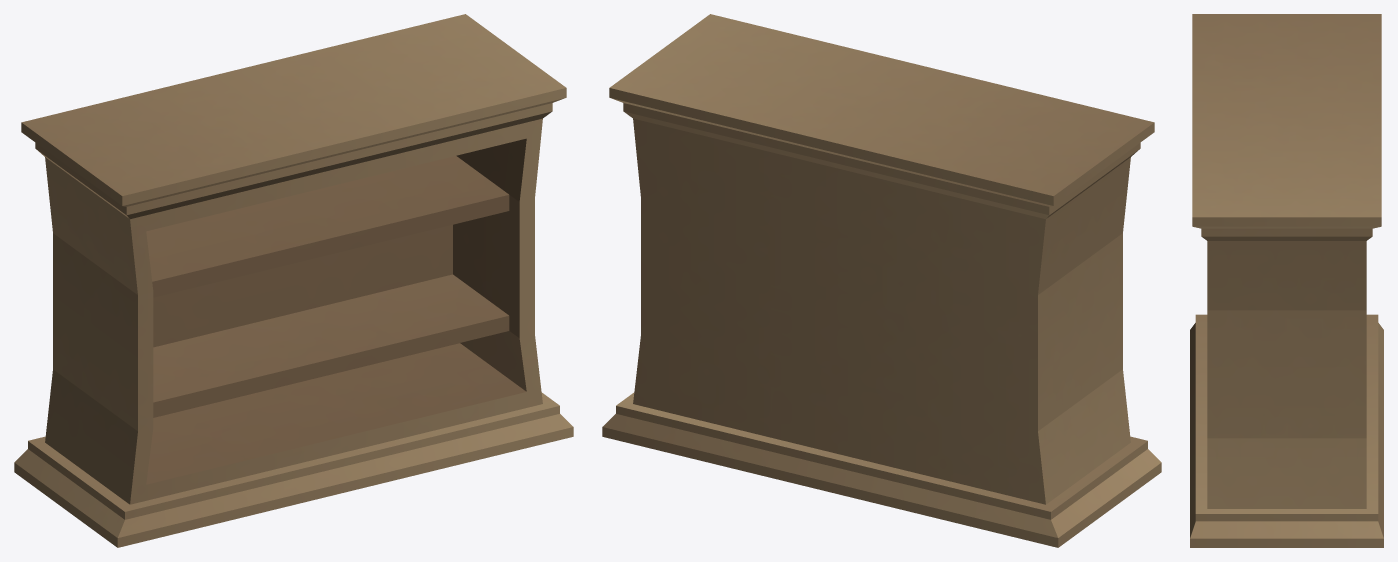
Rendered from small_bookshelf_1.glb.
3 views of the same model, side by side, from view 1: azimuth 30°, elevation 25°; view 2: azimuth 150°, elevation 25°; view 3: azimuth 270°, elevation 25° (orthographic). The views are drawn at different scales.
Visible parts, largest first — view 1: small_bookshelf_1; view 2: small_bookshelf_1; view 3: small_bookshelf_1.
Part boxes in pixels (<box>): small_bookshelf_1: <box>14,14,573,547</box>; small_bookshelf_1: <box>602,14,1161,547</box>; small_bookshelf_1: <box>1190,14,1383,547</box>.
Bounding box in the file's own units: 0.9903 × 0.7253 × 0.3889.
Materials: 1 (1 with a texture image).
